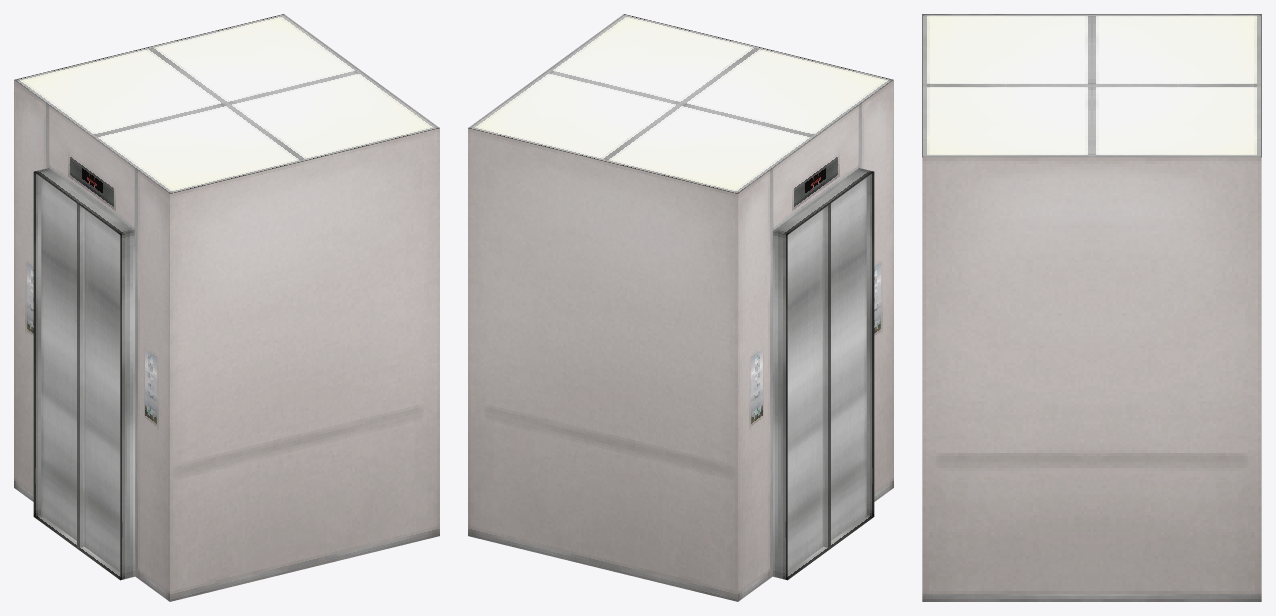
Rendered from ElevatorRight.glb.
3 renders of one model, left to right at view 1: azimuth 30°, elevation 25°; view 2: azimuth 150°, elevation 25°; view 3: azimuth 270°, elevation 25°, orthographic. The views are drawn at different scales.
Parts seen in each view (by area): view 1: elevator, elevator door inside, elevator door inside.001; view 2: elevator, elevator door inside, elevator door inside.001; view 3: elevator.
Boxes of the visible parts, bbox=[...] form: elevator: bbox=[14, 14, 439, 601]; elevator door inside: bbox=[77, 203, 120, 572]; elevator door inside.001: bbox=[41, 177, 76, 540]; elevator: bbox=[468, 14, 893, 601]; elevator door inside: bbox=[823, 177, 866, 548]; elevator door inside.001: bbox=[787, 209, 823, 572]; elevator: bbox=[922, 14, 1261, 601].
Size of the model in its own units: 1.9 by 2.6 by 1.8.
Materials: 1 (1 with a texture image).
